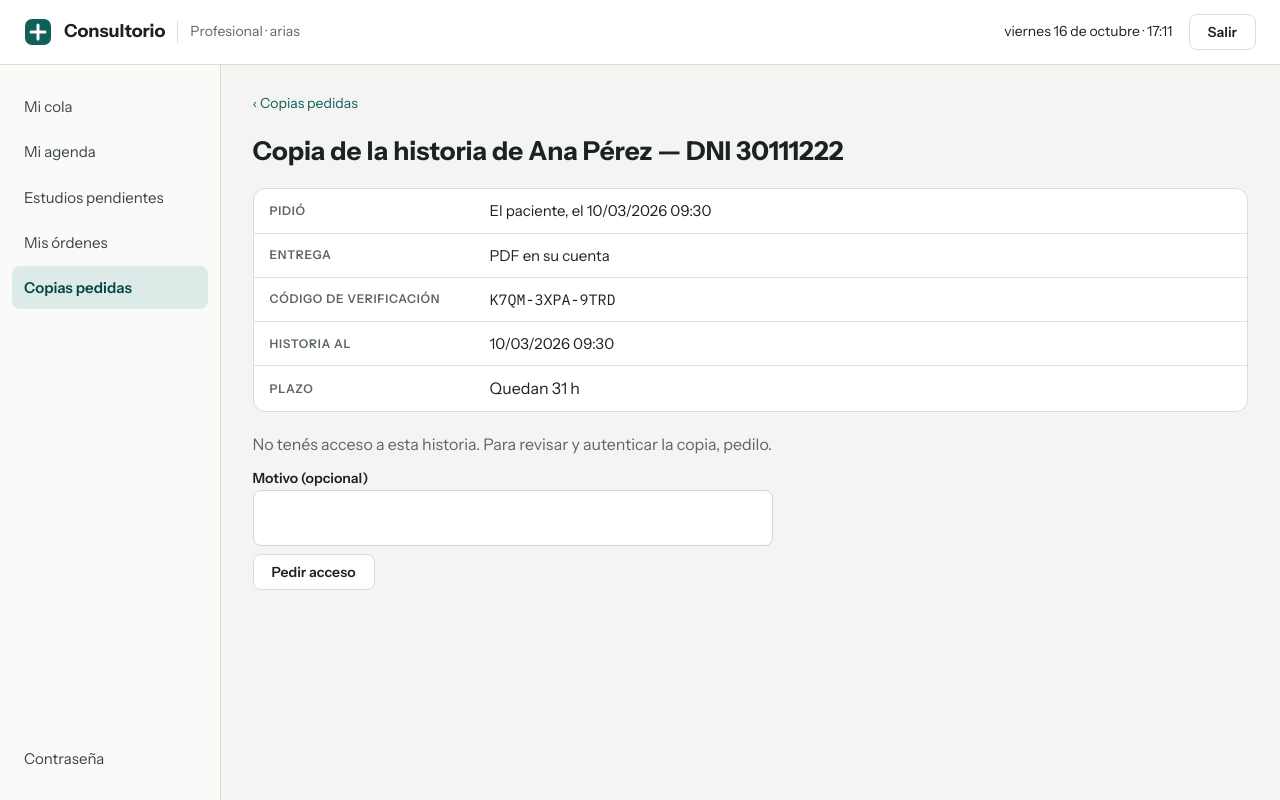
Scenario: a copy › asks for access to a record that may not be read, the reason optional or not, and then may be reviewed
The image size is (1280, 800).
Expected: the text "No tenés acceso a esta historia. Para revisar y autenticar la copia, pedilo." is shown, [252,434,772,454]
Expected: the link "Ver la copia" is not shown
In the text box labelled "Motivo (opcional)": x=512, y=518 [252,490,772,546], type "Autenticar la copia"
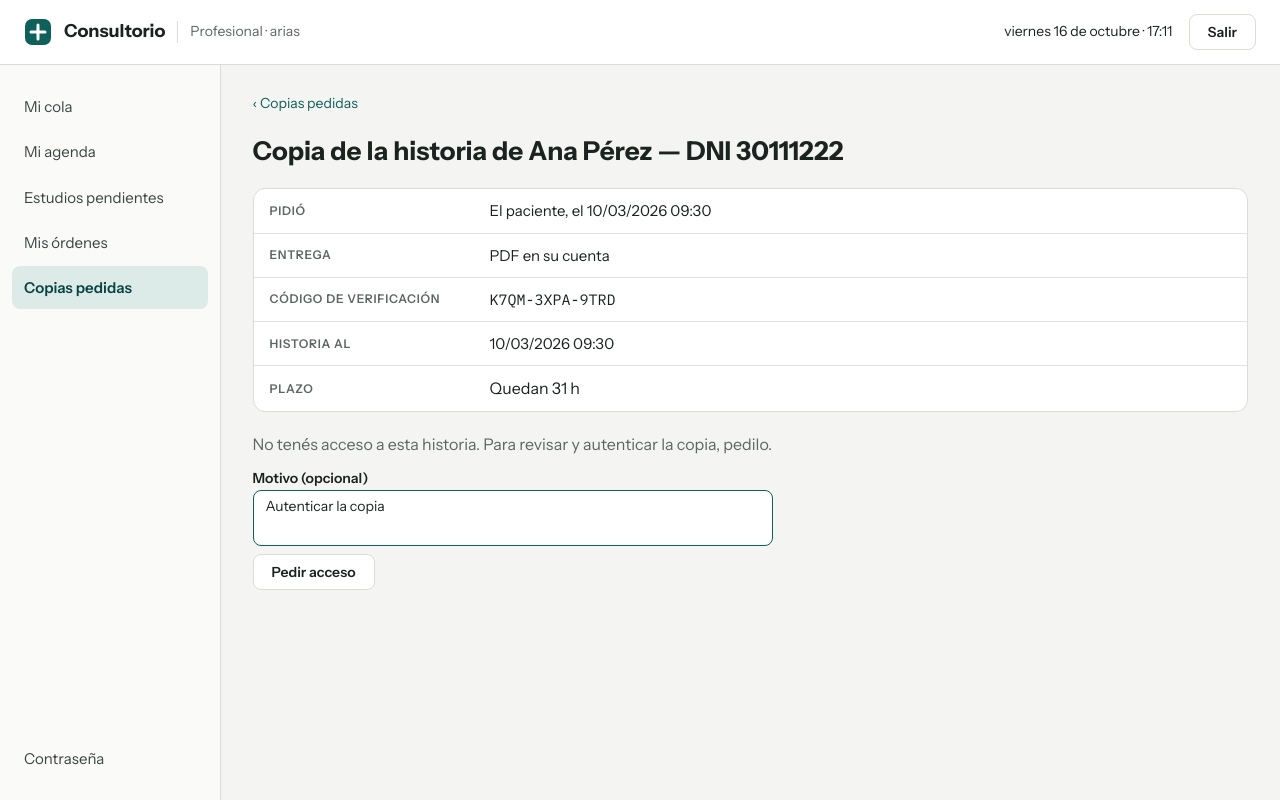
Click the button "Pedir acceso": x=314, y=572 [252,554,375,590]
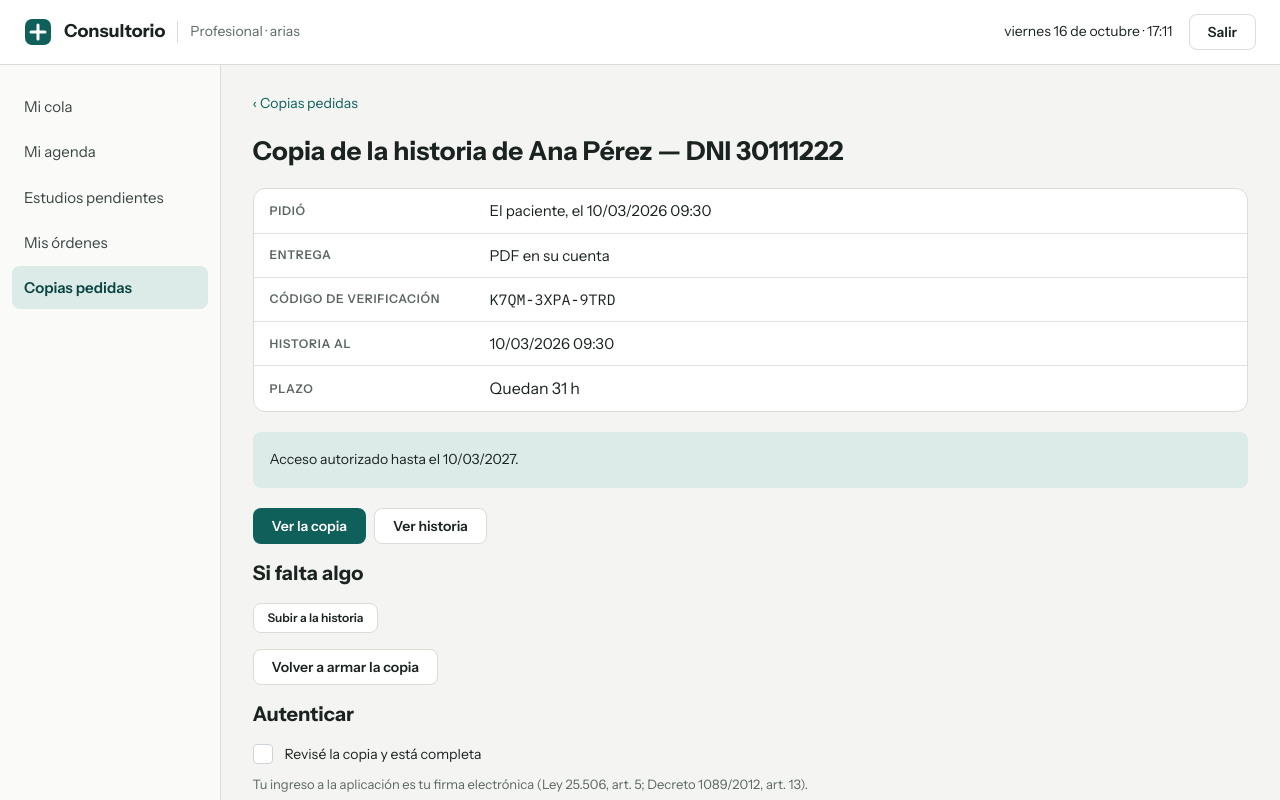
Result: the text "Acceso autorizado hasta el 10/03/2027." is shown at [270,450,519,468]
Result: the link "Ver la copia" is shown at [252,508,366,544]
